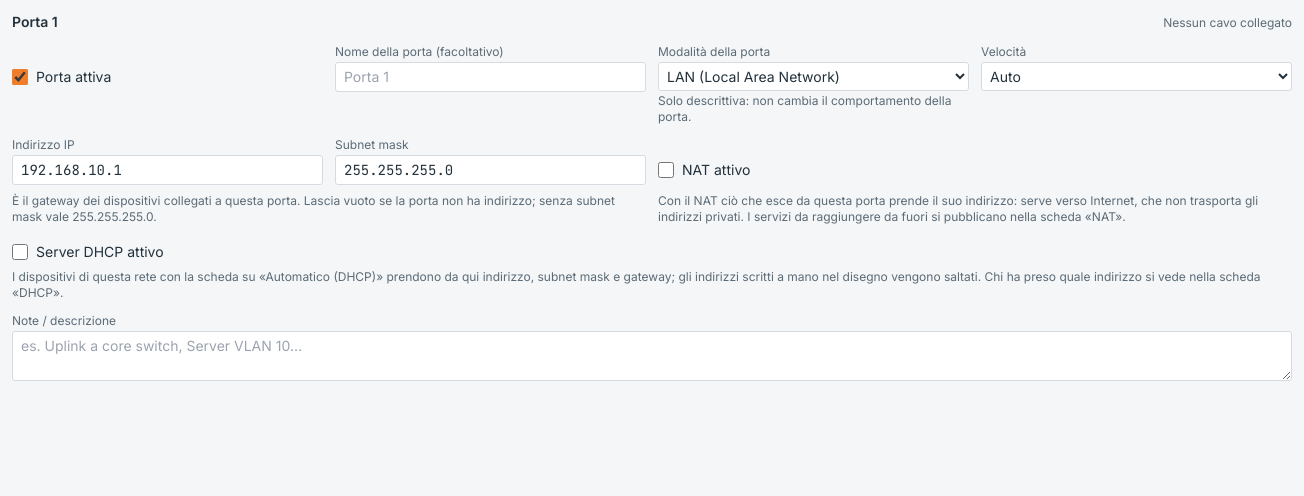
Test: PortEditor — the DHCP server of a port › says what is wrong with the range under its fields while it is typed
Click the checkbox labelled "Server DHCP attivo" at x=20, y=252, box [12,244,28,260]
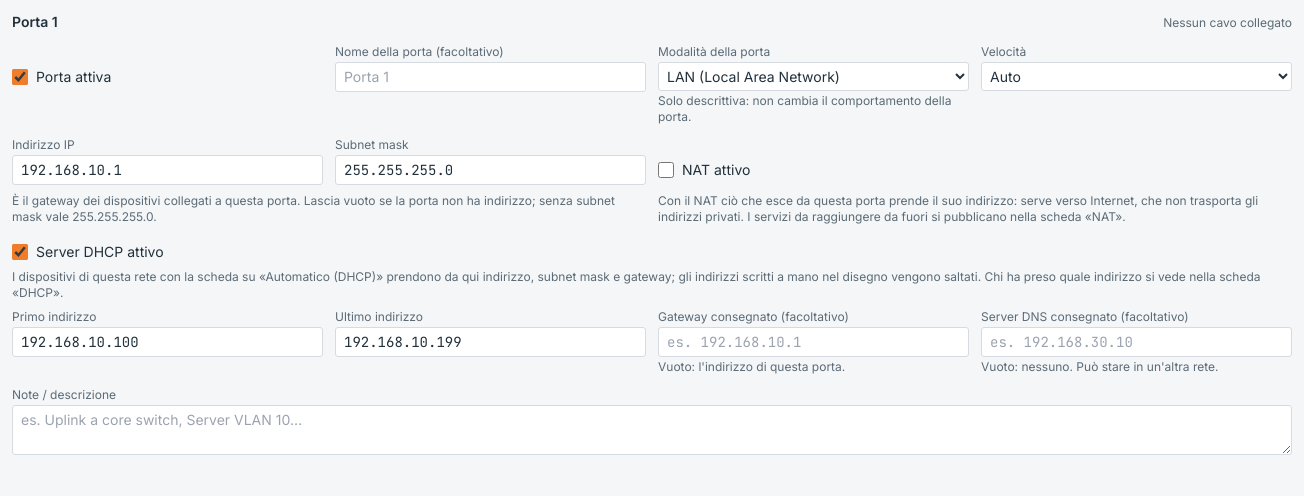
Replace the text in the field labelled "Primo indirizzo" with "10.0.0.5" at x=168, y=342, box [12,327,323,357]
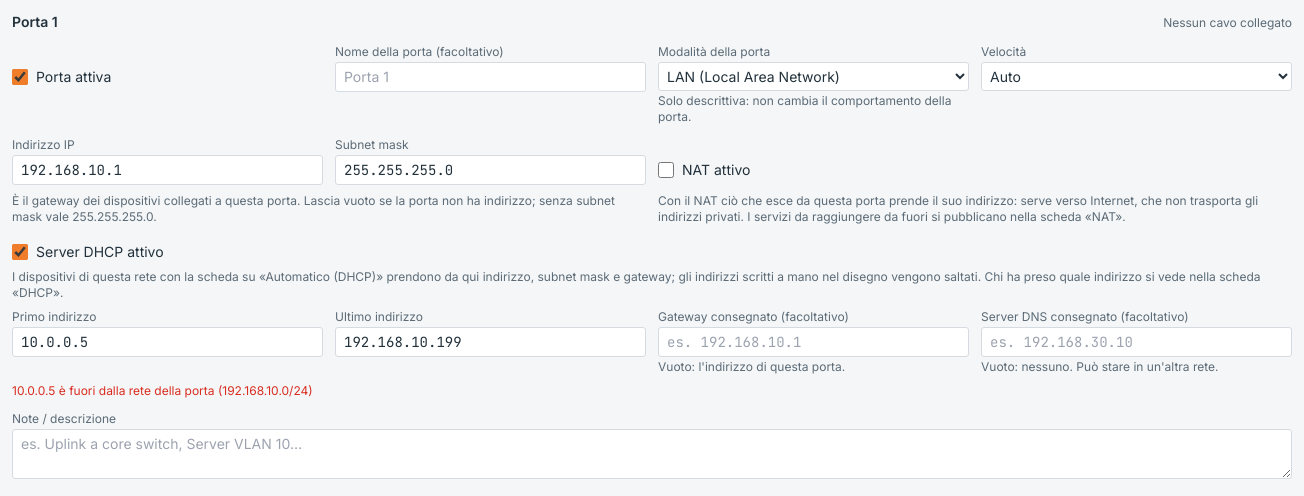
Result: the message reads "10.0.0.5 è fuori dalla rete della porta (192.168.10.0/24)" at [12,383,313,398]
